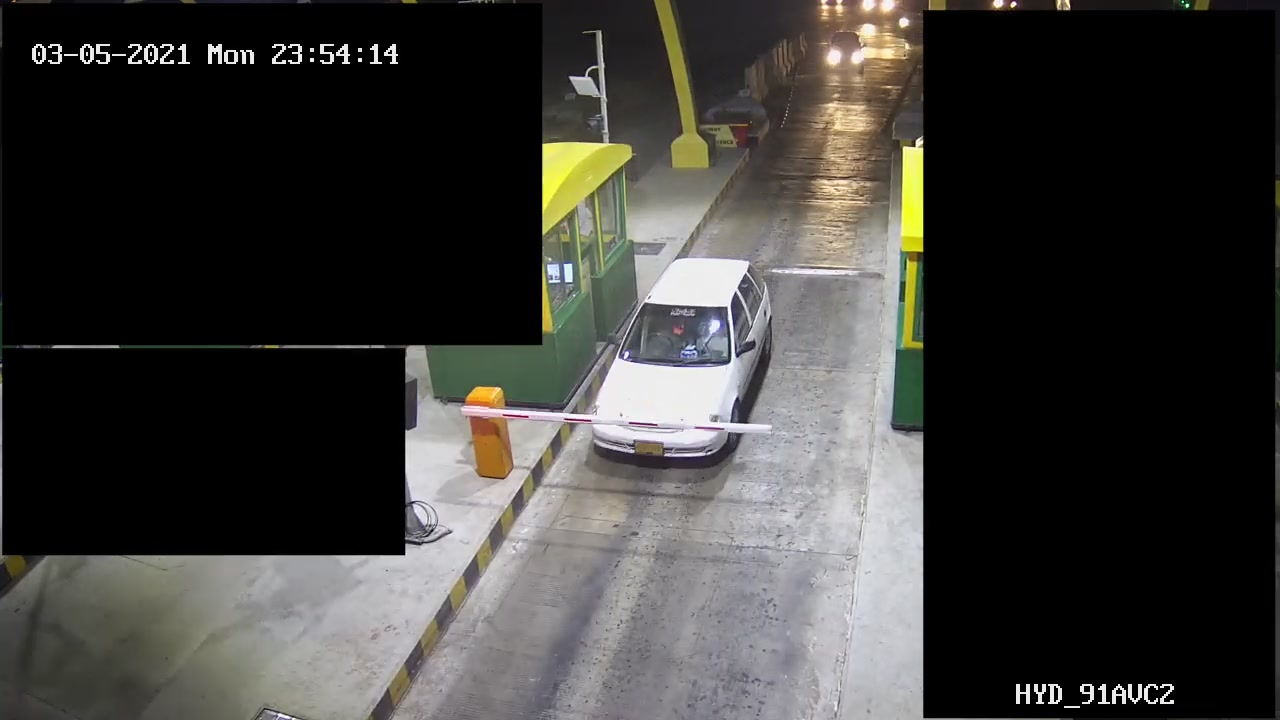F1: (578, 242, 788, 471)
